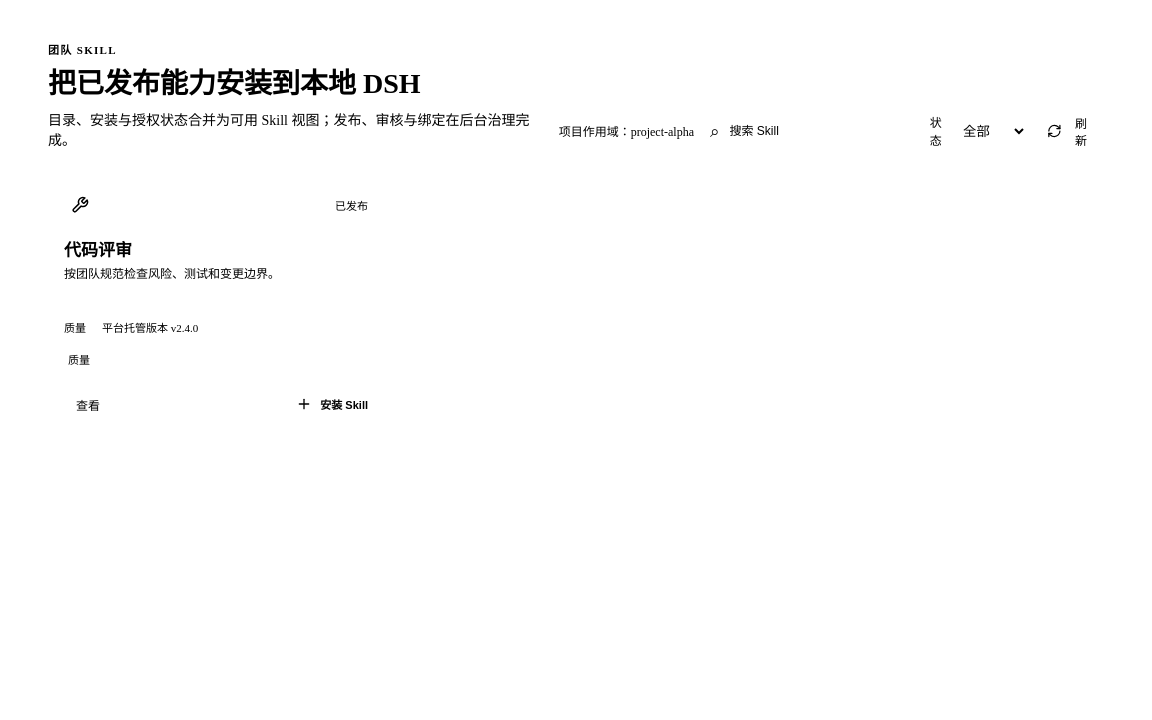
Test: §11.14 信任卡（视图） › 按需拉取信任卡，带上 Skill、版本与项目上下文，并渲染四个分区
Expected: the heading "代码评审" is shown, [64,241,132,260]
Click the button with aria-label "查看代码评审" at (88, 404), box [64,387,112,421]
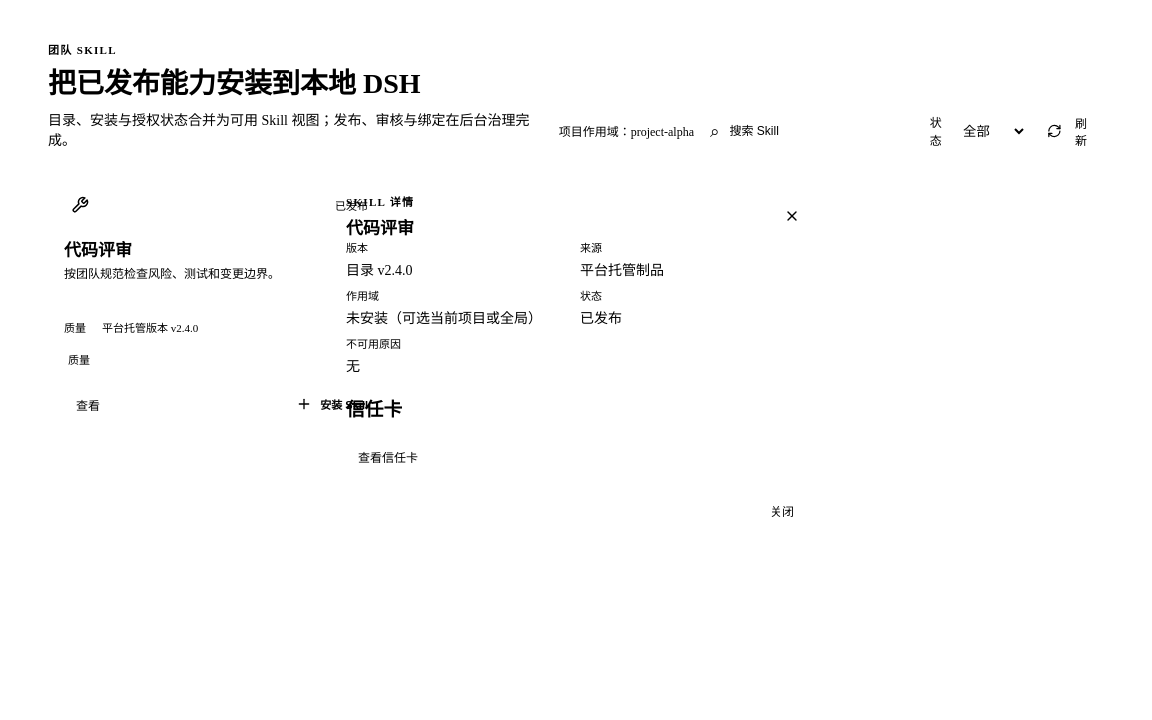
Click the button "查看信任卡" at (388, 457), box [346,440,430,474]
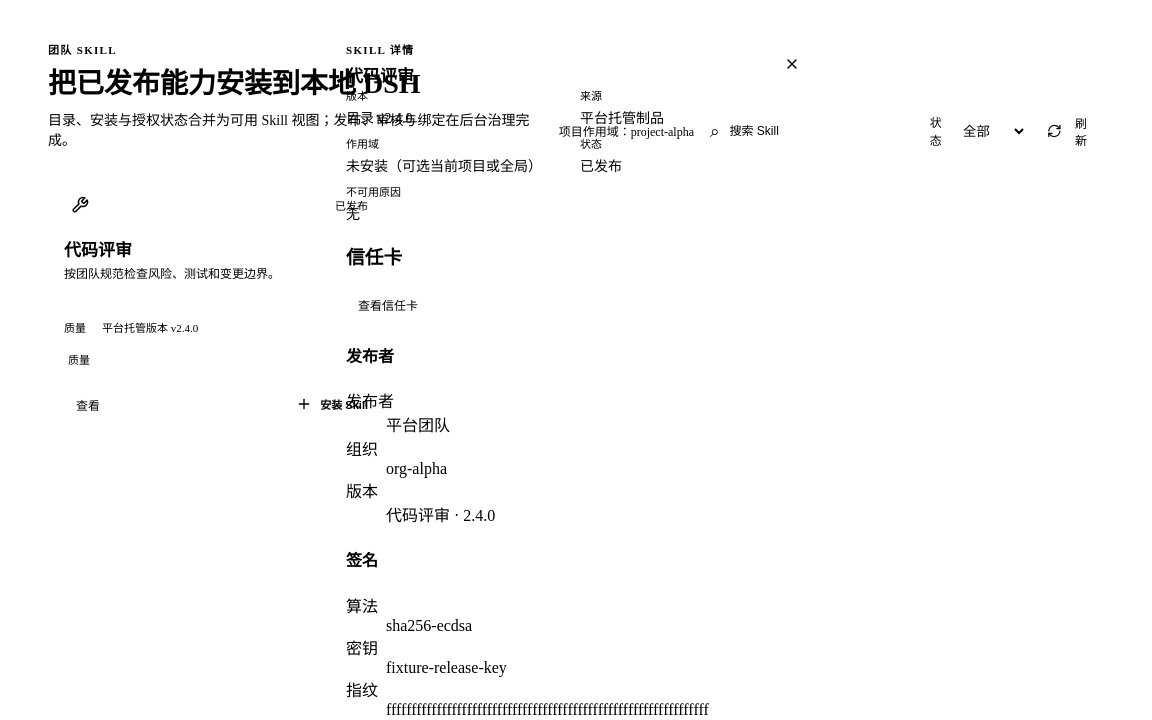
Now the text "平台团队" is shown, box [386,417,450,434]
Now the text "fixture-release-key" is shown, box [386,658,507,676]
